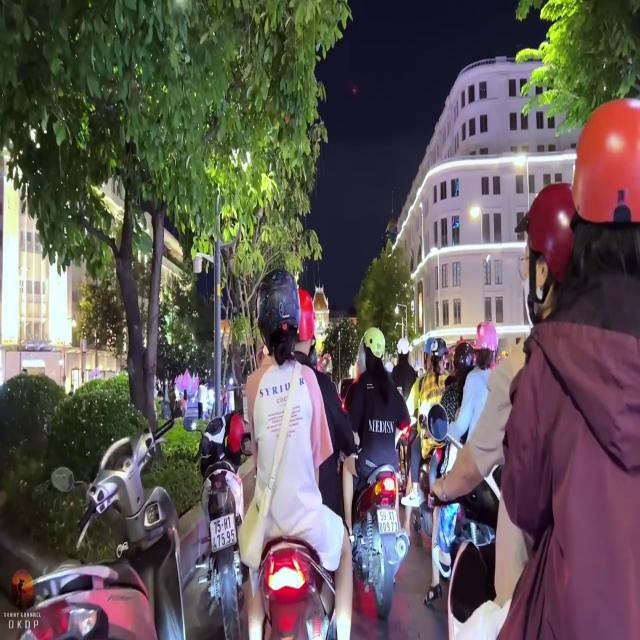bien_trang: (204, 511, 242, 558), (374, 506, 401, 538)
